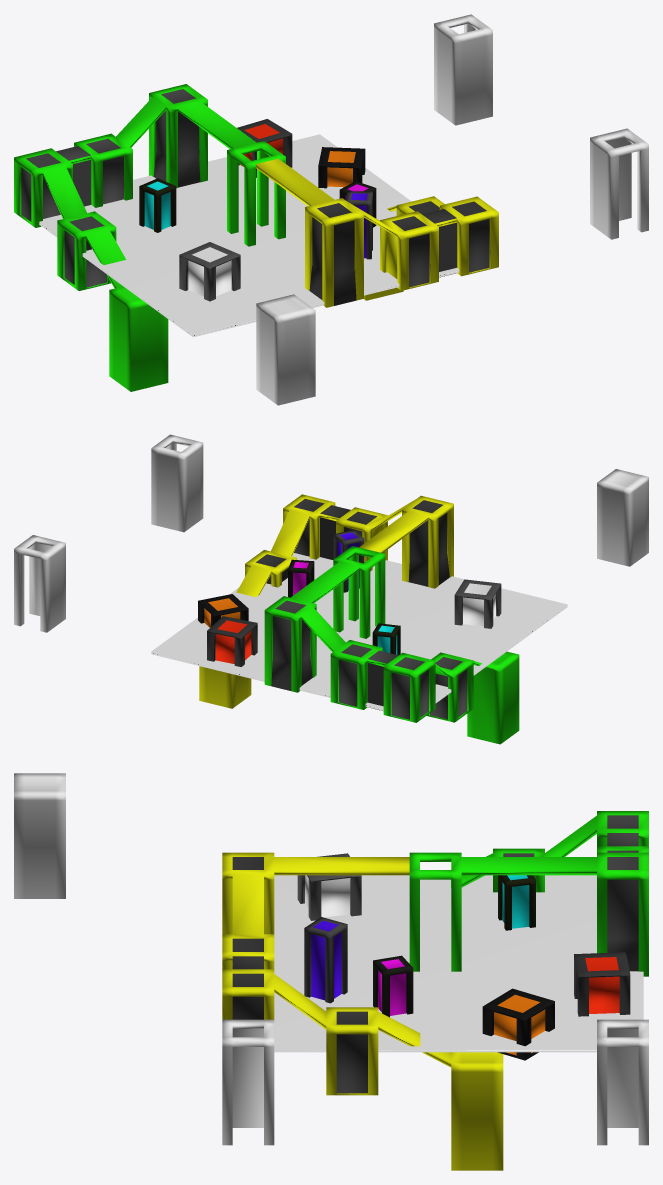
The model's file is Arena_01_Proto 1.fbx.
3 views of the same model, one above another, from view 1: azimuth 30°, elevation 25°; view 2: azimuth 150°, elevation 25°; view 3: azimuth 270°, elevation 25° (orthographic). The views are drawn at different scales.
Visible parts, largest first — view 1: Cube.001, Floor, Cube.002, Cube.004, Cube.005, Cube.007, Cube.003, Cube.008, Cube.006, Cube.009; view 2: Cube.001, Floor, Cube.002, Cube.004, Cube.005, Cube.006, Cube.007, Cube.003, Cube.010, Cube.008, Cube.009; view 3: Floor, Cube.002, Cube.001, Cube.004, Cube.005, Cube.006, Cube.009, Cube.003, Cube.007, Cube.010, Cube.008.
Boxes of the visible parts, left/top/right/bottom form: Cube.001: left=14, top=84, right=285, bottom=391; Floor: left=39, top=134, right=459, bottom=337; Cube.002: left=256, top=158, right=498, bottom=307; Cube.004: left=434, top=14, right=648, bottom=239; Cube.005: left=256, top=294, right=315, bottom=405; Cube.007: left=179, top=242, right=240, bottom=301; Cube.003: left=318, top=147, right=365, bottom=188; Cube.008: left=139, top=178, right=176, bottom=232; Cube.006: left=237, top=119, right=292, bottom=177; Cube.009: left=346, top=191, right=372, bottom=259; Cube.001: left=264, top=546, right=519, bottom=744; Floor: left=151, top=553, right=567, bottom=710; Cube.002: left=199, top=494, right=453, bottom=708; Cube.004: left=14, top=434, right=203, bottom=632; Cube.005: left=597, top=469, right=648, bottom=566; Cube.006: left=207, top=616, right=257, bottom=666; Cube.007: left=454, top=579, right=501, bottom=628; Cube.003: left=198, top=594, right=248, bottom=627; Cube.010: left=288, top=559, right=314, bottom=597; Cube.008: left=372, top=623, right=400, bottom=655; Cube.009: left=333, top=530, right=364, bottom=592; Floor: left=274, top=875, right=643, bottom=1052; Cube.002: left=222, top=852, right=503, bottom=1170; Cube.001: left=409, top=811, right=648, bottom=976; Cube.004: left=222, top=1019, right=648, bottom=1145; Cube.005: left=14, top=773, right=65, bottom=898; Cube.006: left=574, top=952, right=630, bottom=1016; Cube.009: left=304, top=917, right=347, bottom=1003; Cube.003: left=482, top=988, right=554, bottom=1060; Cube.007: left=297, top=853, right=361, bottom=920; Cube.010: left=373, top=955, right=413, bottom=1017; Cube.008: left=498, top=875, right=535, bottom=930.
Size of the model in its own units: 3050 by 1150 by 3050.
